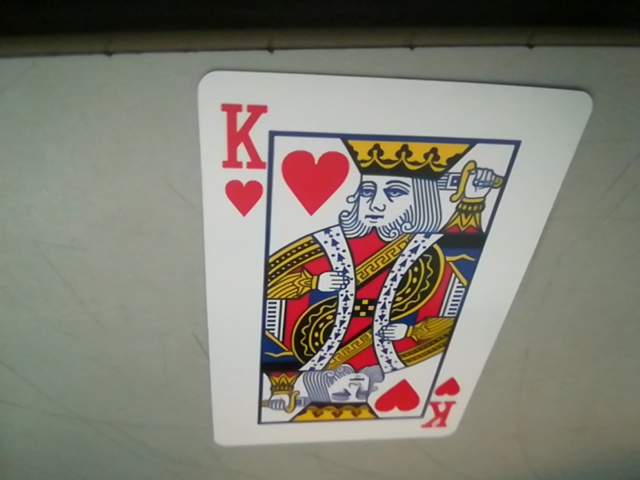hx k: (213, 101, 269, 218), (414, 367, 476, 430)
